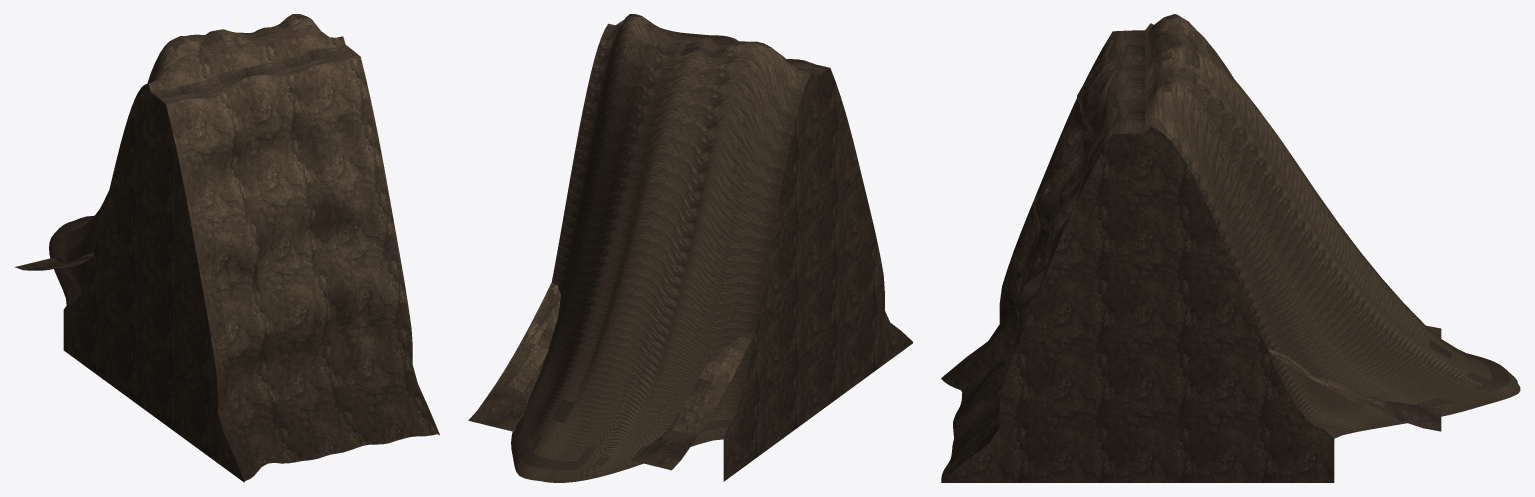
The model's file is seacliff_straight6c_h8_v5_dead.glb.
The picture shows the model from 3 angles, left to right: view 1: azimuth 30°, elevation 25°; view 2: azimuth 150°, elevation 25°; view 3: azimuth 270°, elevation 25°; orthographic projection. The views are drawn at different scales.
Visible parts, largest first — view 1: seacliff_straight6c_h8; view 2: seacliff_straight6c_h8; view 3: seacliff_straight6c_h8.
Part boxes in pixels (x1=…): seacliff_straight6c_h8: x1=14, y1=14, x2=439, y2=482; seacliff_straight6c_h8: x1=468, y1=14, x2=912, y2=482; seacliff_straight6c_h8: x1=941, y1=14, x2=1520, y2=482.
Size of the model in its own units: 6 by 10.47 by 14.23.
Materials: 2 (2 with a texture image).
